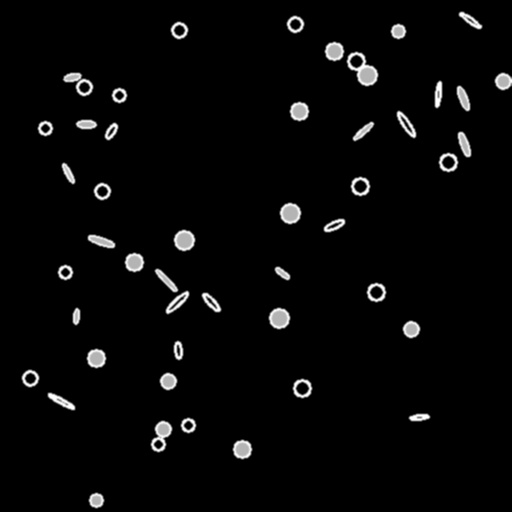pseudomonas: (395, 110, 417, 138), (165, 290, 189, 314), (154, 268, 178, 292), (47, 392, 75, 410), (352, 121, 374, 141), (201, 292, 221, 312), (459, 11, 481, 29), (88, 234, 114, 248), (456, 85, 470, 111), (457, 132, 471, 156), (324, 218, 344, 232), (61, 163, 75, 183), (104, 122, 118, 140), (274, 266, 290, 280), (434, 81, 442, 107), (64, 72, 80, 82), (410, 413, 428, 421), (174, 342, 182, 358), (76, 121, 96, 127), (73, 308, 79, 324)
synechocystis: (281, 204, 299, 222), (175, 231, 193, 249), (358, 66, 376, 84), (270, 309, 288, 327), (352, 178, 368, 194), (234, 441, 250, 457), (440, 154, 456, 170), (368, 284, 384, 300), (326, 43, 342, 59), (291, 103, 307, 119), (126, 254, 142, 270), (294, 380, 310, 396), (348, 53, 364, 69), (88, 350, 104, 366), (95, 184, 109, 198), (496, 74, 510, 88), (156, 422, 170, 436), (161, 374, 175, 388), (288, 17, 302, 31), (404, 322, 418, 336), (77, 80, 91, 94), (23, 371, 37, 385), (172, 23, 186, 37), (152, 438, 164, 450), (392, 25, 404, 37), (182, 419, 194, 431), (59, 266, 71, 278), (39, 122, 51, 134), (90, 494, 102, 506), (113, 89, 125, 101)
